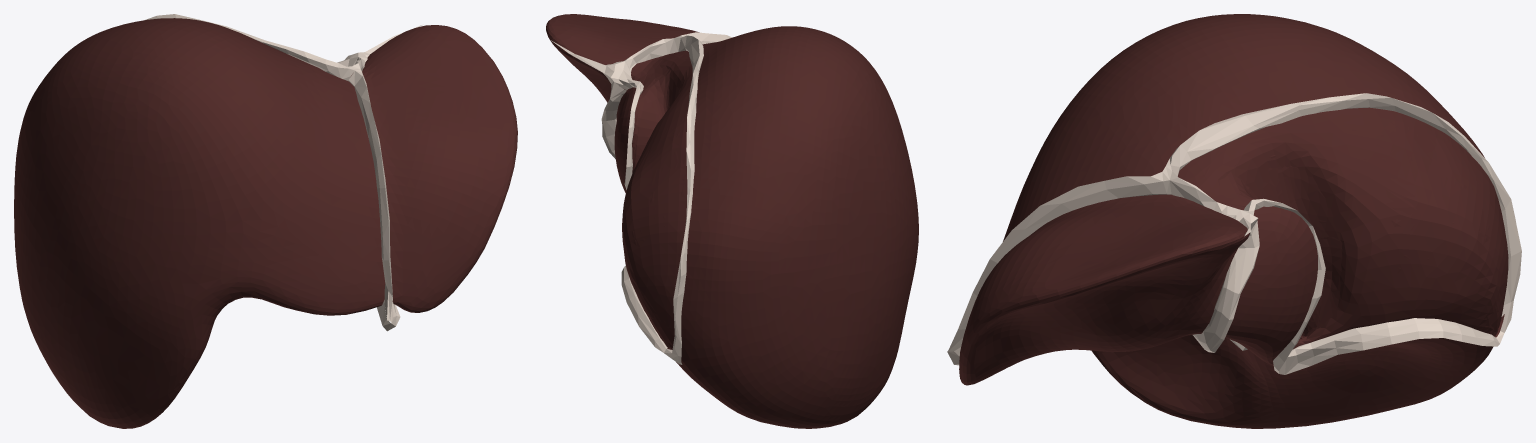
File: VH_M_Liver_0.6.glb
3 views of the same model, side by side, from view 1: azimuth 30°, elevation 25°; view 2: azimuth 150°, elevation 25°; view 3: azimuth 270°, elevation 25° (orthographic). The views are drawn at different scales.
Visible parts, largest first — view 1: VH_M_liver_capsule, VH_M_falciform_ligament, VH_M_coronary_ligament_of_liver; view 2: VH_M_liver_capsule, VH_M_bare_area_of_liver, VH_M_coronary_ligament_of_liver, VH_M_caudate_lobe_of_liver, VH_M_ligamentum_venosum, VH_M_right_posterosuperior_segment, VH_M_diaphragmatic_surface, VH_M_triangular_ligament_of_liver; view 3: VH_M_liver_capsule, VH_M_bare_area_of_liver, VH_M_coronary_ligament_of_liver, VH_M_falciform_ligament, VH_M_caudate_lobe_of_liver, VH_M_diaphragmatic_surface, VH_M_ligamentum_venosum, VH_M_right_posterosuperior_segment.
Part boxes in pixels (x1,y1,x2,y2): VH_M_liver_capsule: (14,18,517,428); VH_M_falciform_ligament: (348,70,393,322); VH_M_coronary_ligament_of_liver: (144,14,367,80); VH_M_liver_capsule: (546,14,918,428); VH_M_bare_area_of_liver: (622,50,692,347); VH_M_coronary_ligament_of_liver: (610,35,703,364); VH_M_caudate_lobe_of_liver: (631,54,689,159); VH_M_ligamentum_venosum: (601,78,626,159); VH_M_right_posterosuperior_segment: (627,109,687,314); VH_M_diaphragmatic_surface: (632,73,680,339); VH_M_triangular_ligament_of_liver: (551,40,616,82); VH_M_liver_capsule: (959,14,1504,428); VH_M_bare_area_of_liver: (1178,108,1508,343); VH_M_coronary_ligament_of_liver: (1162,93,1521,374); VH_M_falciform_ligament: (948,172,1166,351); VH_M_caudate_lobe_of_liver: (1190,149,1342,349); VH_M_diaphragmatic_surface: (1226,155,1497,346); VH_M_ligamentum_venosum: (1193,219,1259,352); VH_M_right_posterosuperior_segment: (1346,107,1502,314).
Size of the model in its own units: 0.1915 by 0.1747 by 0.2022.
